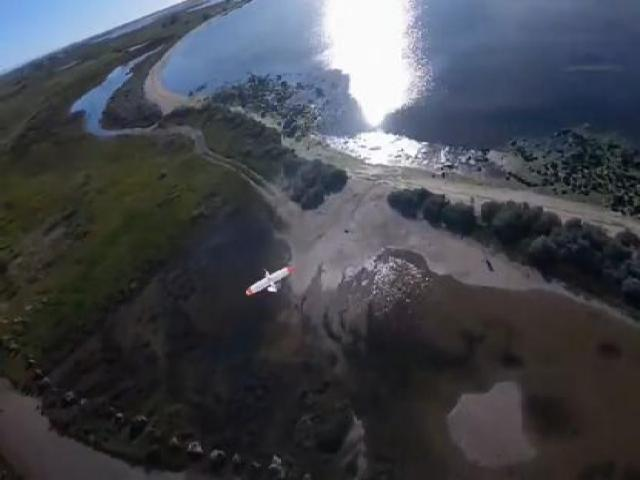uav: (242, 267, 293, 301)
